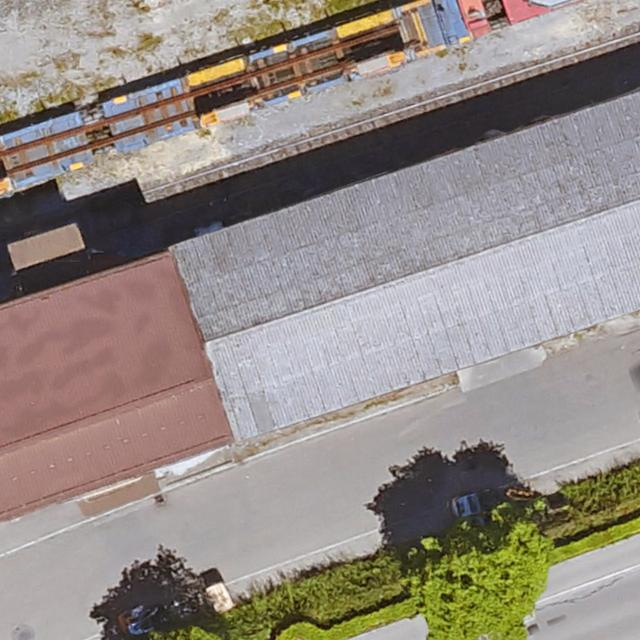tree: (413, 530, 550, 640), (148, 625, 222, 640)
